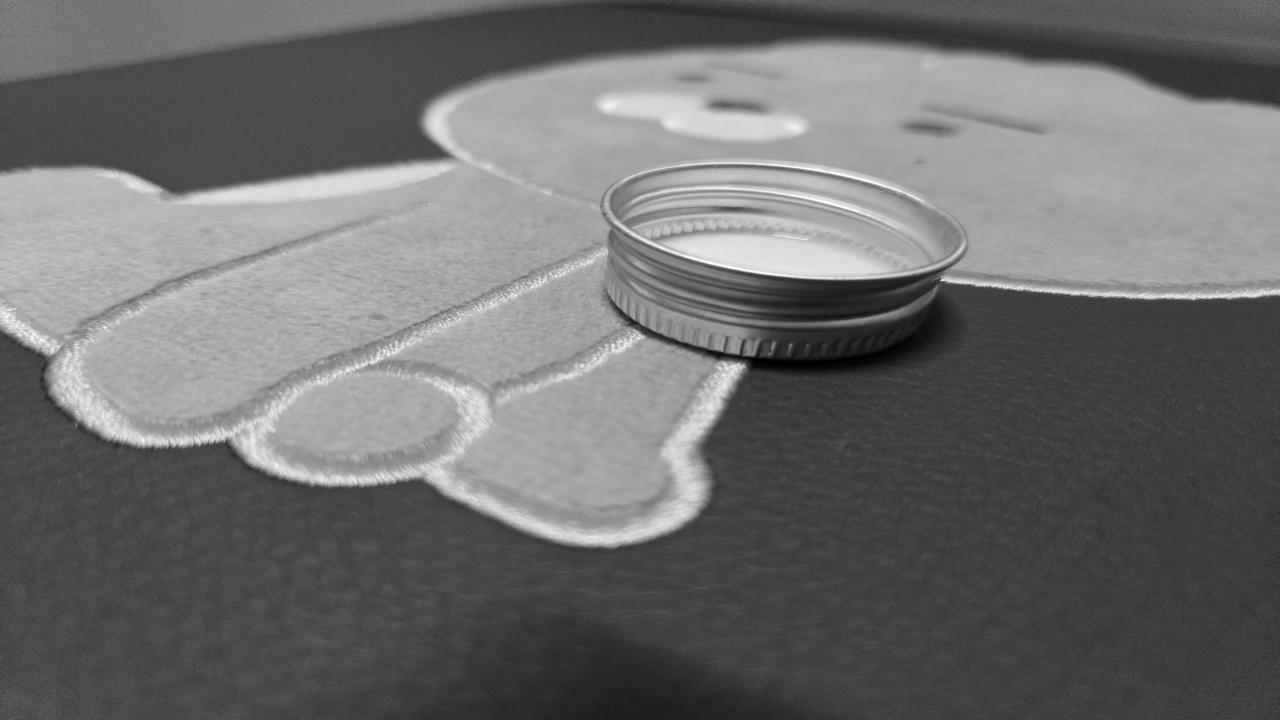bottle_cap: (598, 156, 973, 367)
